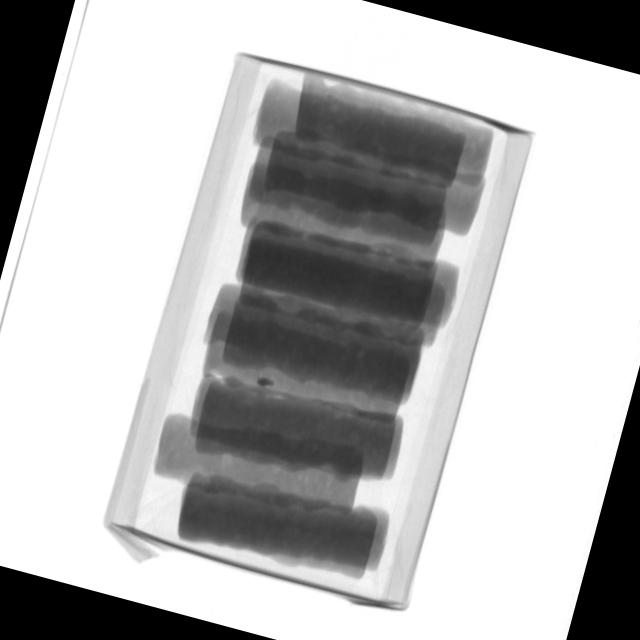ym: (257, 376, 276, 389)
